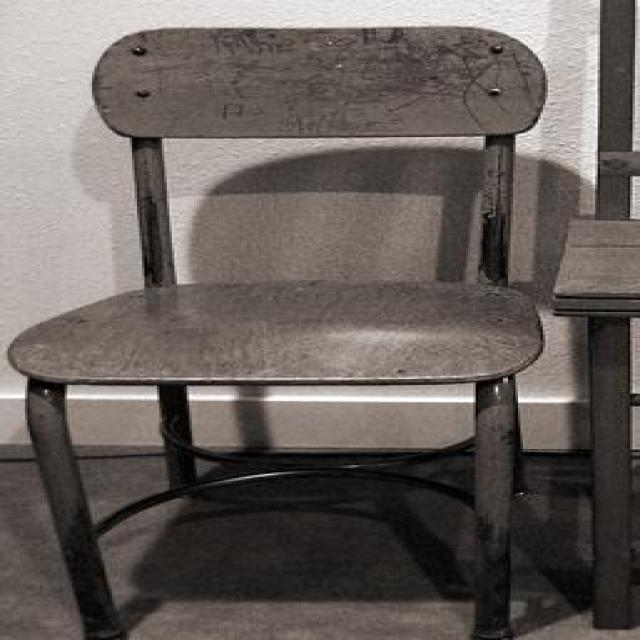chair: (7, 25, 548, 640)
